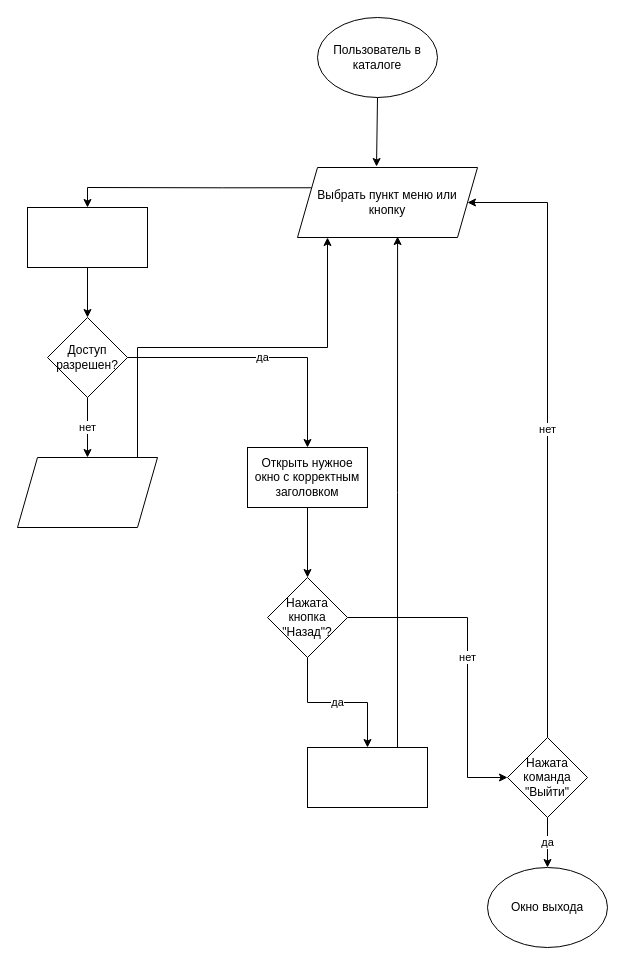
Some shapes in this 625 by 965 pixel diagram are drawn without their labels. The box of each missing label's shape, as (x1, y1, x2, y2) in pixels:
Вернуться на предыдущее окно: (306, 746, 428, 808)
Проверить право доступа: (26, 206, 148, 268)
Сообщение о запрете действия: (16, 456, 158, 528)
